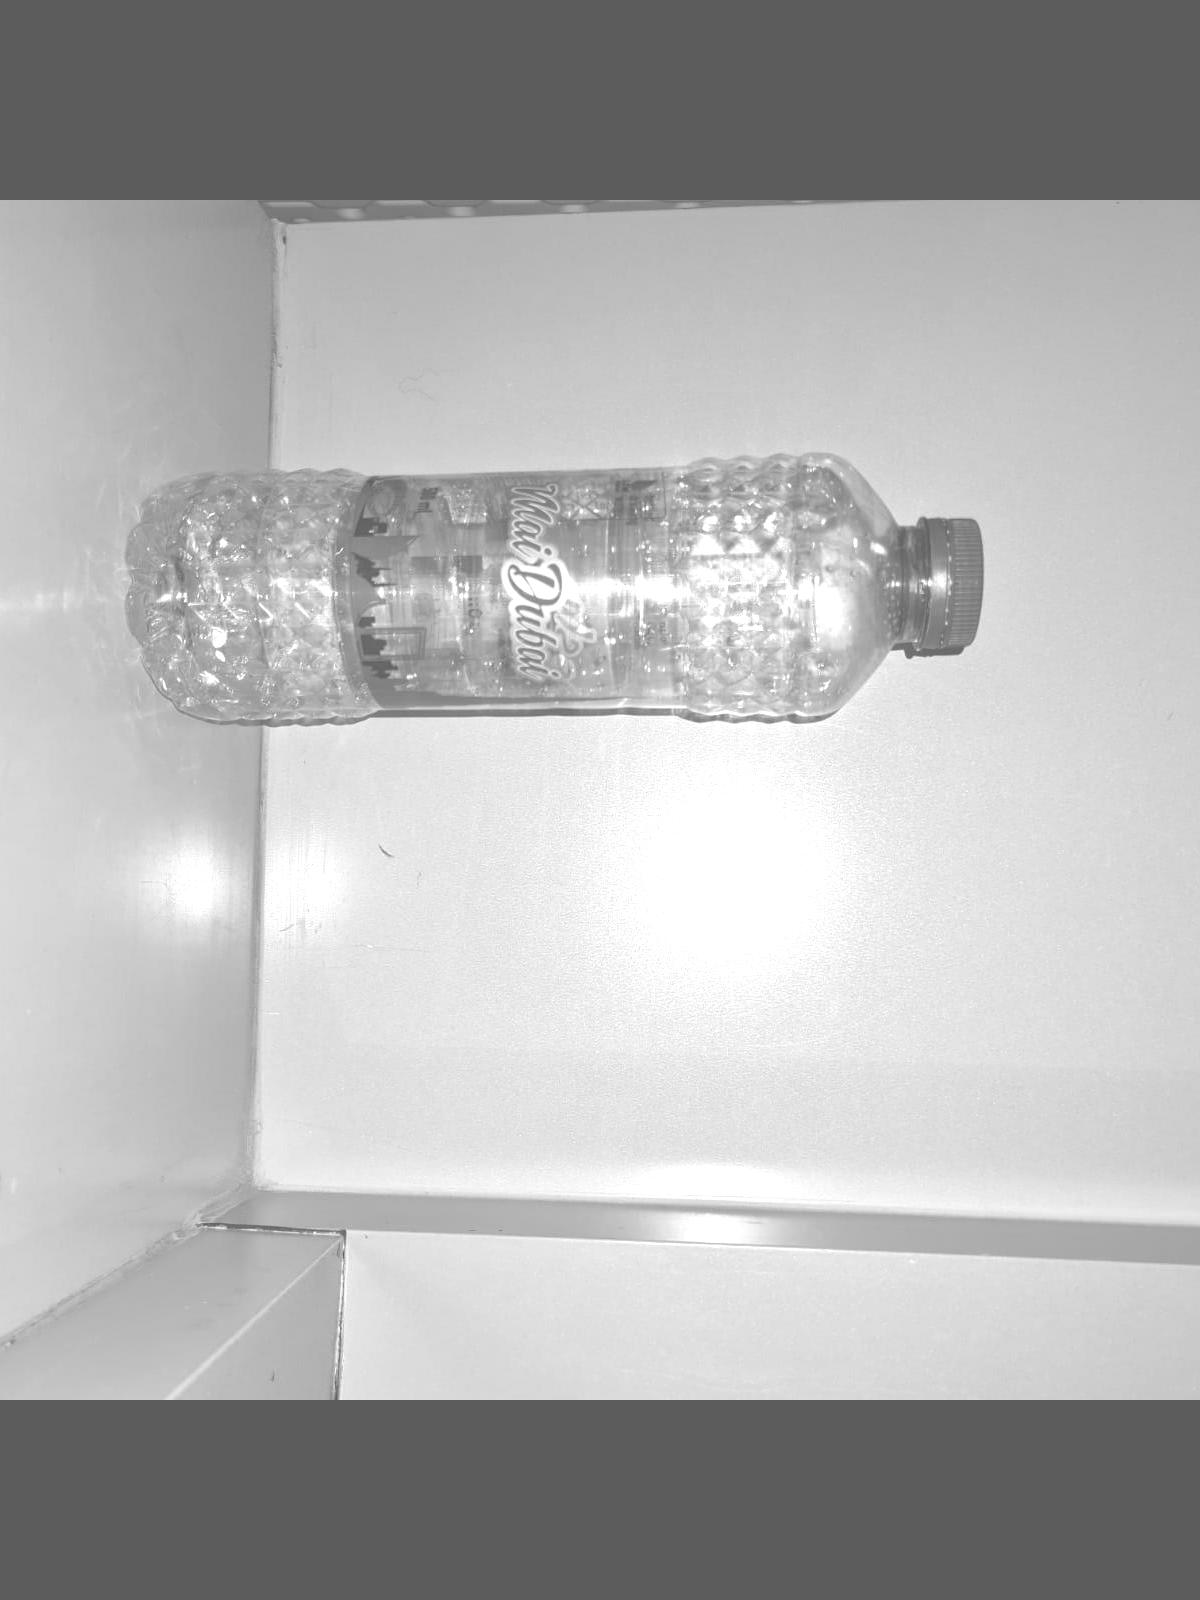bottle: (139, 450, 1006, 752)
